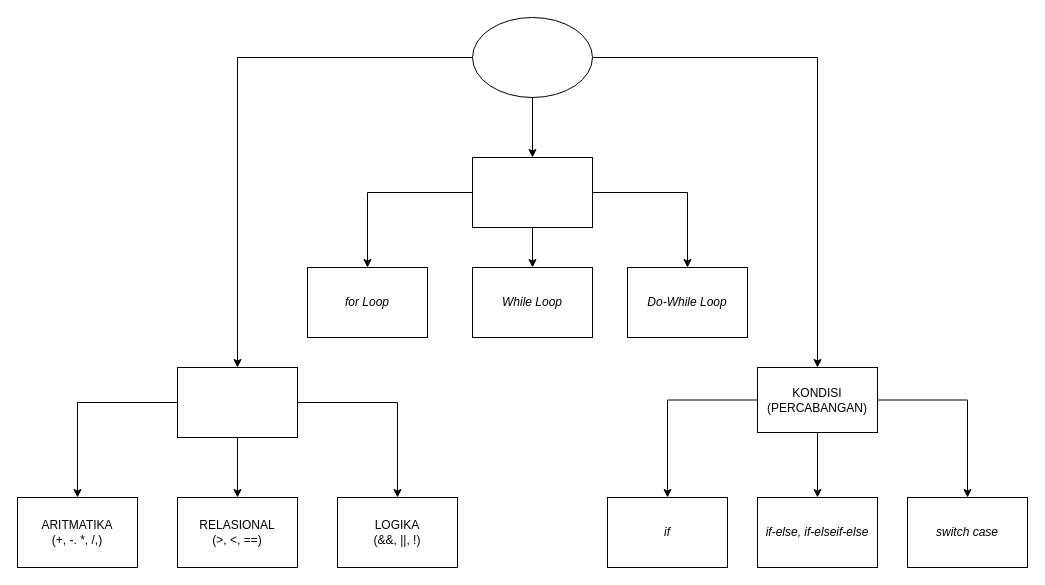
Image size: 1045x585. Some labels were removed from this diagram. The centre of each missing label's shape, as x and y in pixels:
Dasar Pemrograman Java: [532,57]
OPERATOR: [237,402]
PERULANGAN (LOOP): [532,192]
